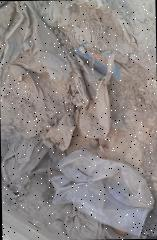general: (73, 39, 121, 78)
plastic: (50, 146, 155, 238)
